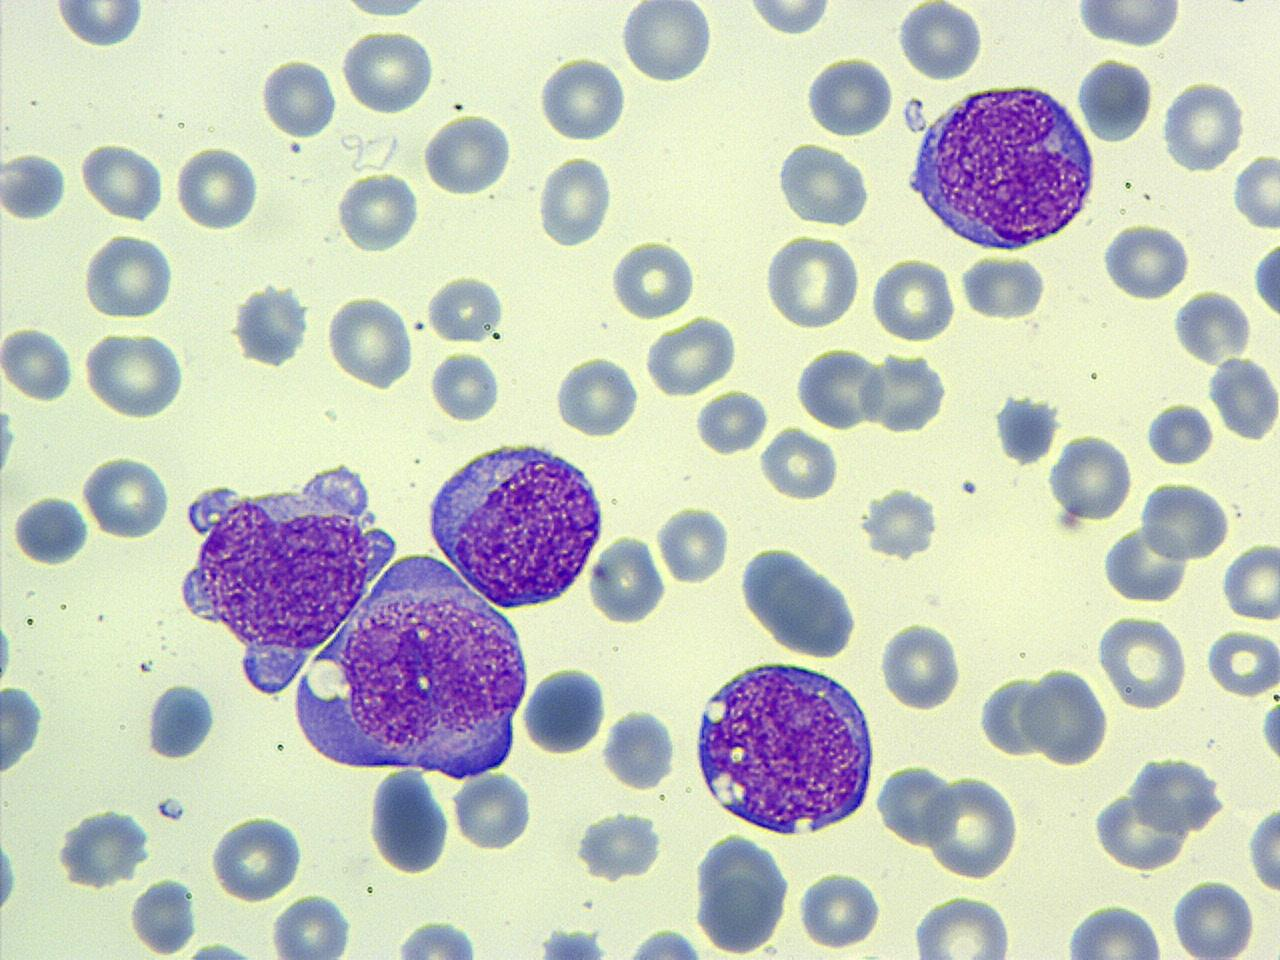Platelets: (519, 663, 611, 756), (894, 2, 988, 84), (230, 279, 312, 371), (1074, 54, 1154, 144), (574, 806, 664, 884), (600, 706, 678, 790), (1204, 356, 1278, 441), (862, 488, 941, 560), (128, 874, 200, 954), (1073, 2, 1185, 49), (690, 389, 770, 456), (1142, 398, 1215, 466), (992, 394, 1060, 466), (1, 149, 70, 220), (51, 3, 147, 50), (393, 918, 482, 960), (1251, 237, 1280, 324), (538, 926, 606, 960), (181, 939, 258, 960), (1258, 695, 1280, 767), (0, 838, 20, 916), (0, 403, 17, 480), (0, 614, 16, 690)
RBC: (690, 829, 792, 956), (926, 772, 1020, 882), (762, 229, 862, 330), (82, 327, 188, 419), (1018, 665, 1110, 767), (1096, 611, 1190, 710), (324, 292, 416, 390), (80, 229, 178, 321), (209, 812, 307, 902), (773, 139, 872, 228), (338, 26, 437, 114), (1160, 78, 1244, 177), (82, 451, 174, 541), (536, 54, 628, 144), (1047, 430, 1135, 523), (642, 315, 740, 398), (620, 0, 715, 85), (520, 666, 608, 756), (535, 151, 615, 250), (422, 109, 513, 196), (585, 532, 665, 628), (792, 344, 880, 432), (610, 235, 698, 322), (803, 55, 895, 139), (878, 618, 962, 710), (870, 255, 956, 343), (1139, 477, 1229, 562), (796, 868, 886, 952), (1099, 221, 1191, 302), (908, 890, 1016, 959), (552, 353, 640, 437), (176, 143, 259, 232), (1170, 876, 1260, 958), (1100, 525, 1190, 605), (894, 2, 985, 82), (861, 351, 947, 434), (79, 139, 165, 222), (335, 169, 419, 253), (452, 768, 533, 852), (758, 424, 842, 501), (260, 56, 338, 140), (1207, 353, 1279, 444), (654, 502, 730, 588), (1173, 285, 1253, 366), (958, 252, 1049, 321), (1062, 902, 1168, 960), (10, 491, 92, 567), (862, 486, 942, 562), (1, 323, 77, 403), (425, 271, 506, 345), (1204, 624, 1280, 702), (1072, 0, 1184, 50), (269, 891, 351, 960), (427, 348, 500, 424), (691, 387, 768, 457), (1221, 538, 1279, 623), (2, 151, 70, 222), (53, 0, 144, 51), (388, 918, 491, 959), (1231, 150, 1279, 232), (743, 0, 835, 37), (616, 925, 710, 959), (1247, 800, 1279, 896)
WBC: (288, 551, 536, 775), (170, 452, 400, 688), (904, 76, 1100, 255), (689, 655, 882, 837), (422, 434, 609, 612), (736, 537, 864, 659), (690, 830, 796, 956), (367, 764, 452, 876), (520, 661, 608, 759), (55, 806, 153, 892), (231, 281, 314, 372), (573, 808, 665, 883), (976, 672, 1049, 762), (144, 678, 219, 764), (11, 488, 91, 568), (0, 682, 49, 777), (388, 918, 490, 958)
